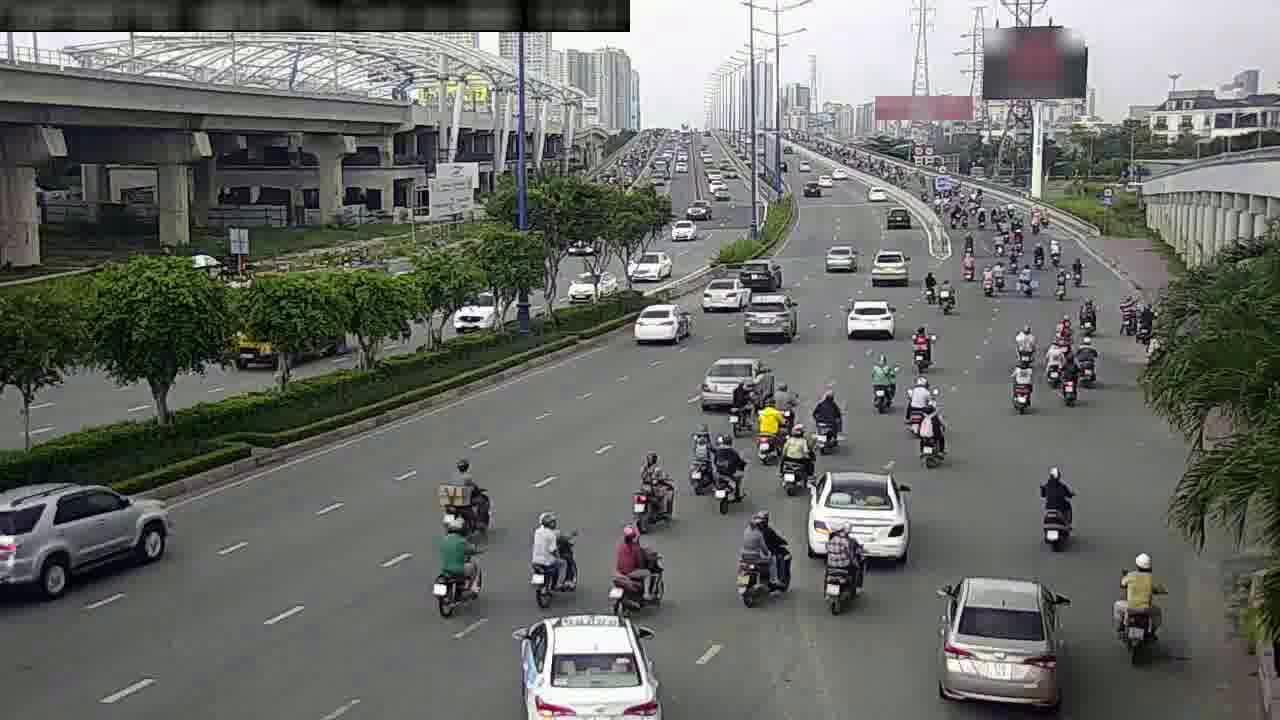container: (1, 473, 180, 598), (918, 556, 1056, 717), (683, 350, 790, 415), (836, 285, 908, 351), (730, 285, 804, 339), (624, 288, 682, 344), (697, 275, 742, 314)
motorbike: (806, 465, 916, 560), (1093, 540, 1167, 663), (521, 512, 607, 611), (1028, 456, 1107, 553), (603, 517, 675, 611), (620, 432, 686, 526), (720, 500, 782, 598), (435, 525, 493, 628), (696, 423, 761, 510), (808, 522, 869, 604), (426, 446, 489, 524), (905, 409, 967, 473), (675, 427, 723, 493), (800, 390, 851, 451), (747, 398, 793, 458), (866, 354, 905, 410), (899, 363, 933, 427)
